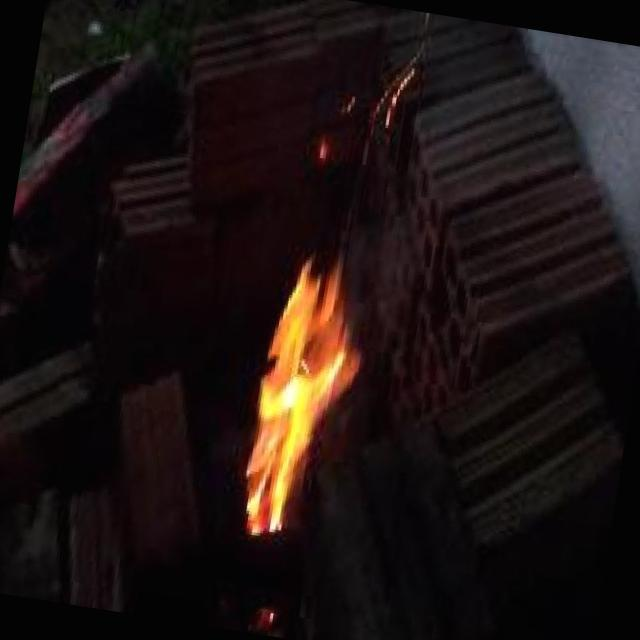fire: (180, 138, 434, 583)
